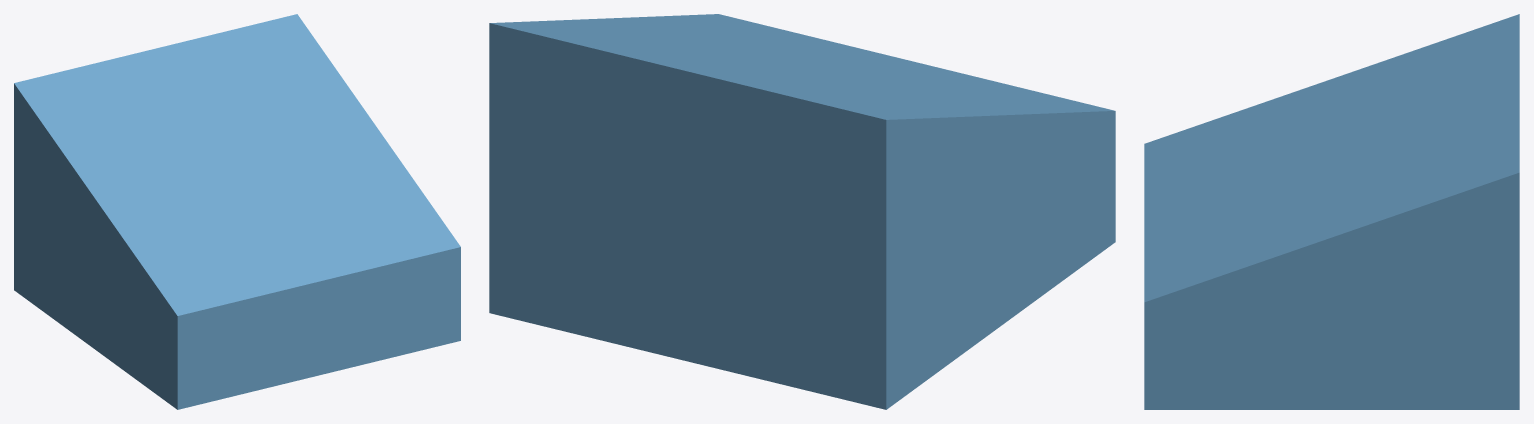
Rendered from Controller_button_blue.fbx.
The picture shows the model from 3 angles, left to right: view 1: azimuth 30°, elevation 25°; view 2: azimuth 150°, elevation 25°; view 3: azimuth 270°, elevation 25°; orthographic projection. The views are drawn at different scales.
Parts seen in each view (by area): view 1: pCube2; view 2: pCube2; view 3: pCube2.
Part boxes in pixels (x1,y1,x2,y2): pCube2: (14, 14, 460, 409); pCube2: (489, 14, 1115, 409); pCube2: (1144, 14, 1519, 409).
Bounding box in the file's own units: 14 × 9.78 × 14.
